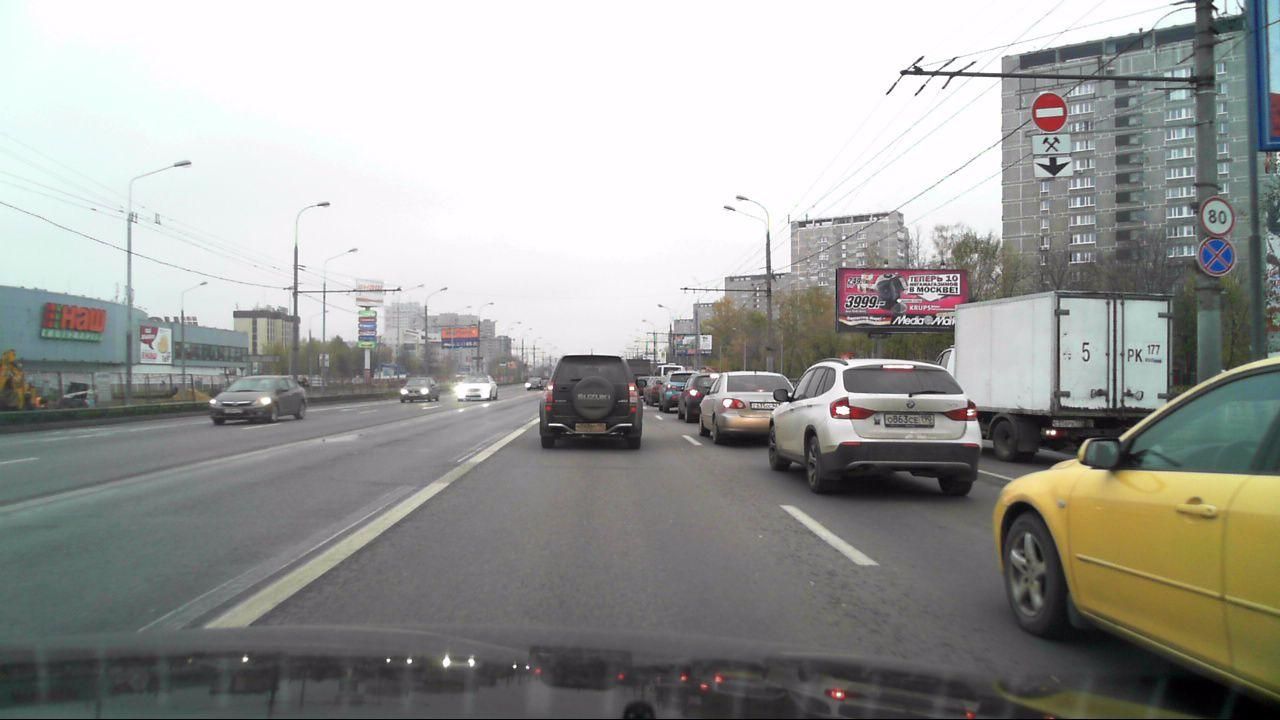3_1: (1032, 91, 1069, 131)
3_24: (1198, 197, 1237, 234)
3_27: (1196, 234, 1237, 278)
8_14: (1032, 155, 1076, 179)
8_5_2: (1030, 134, 1073, 155)
